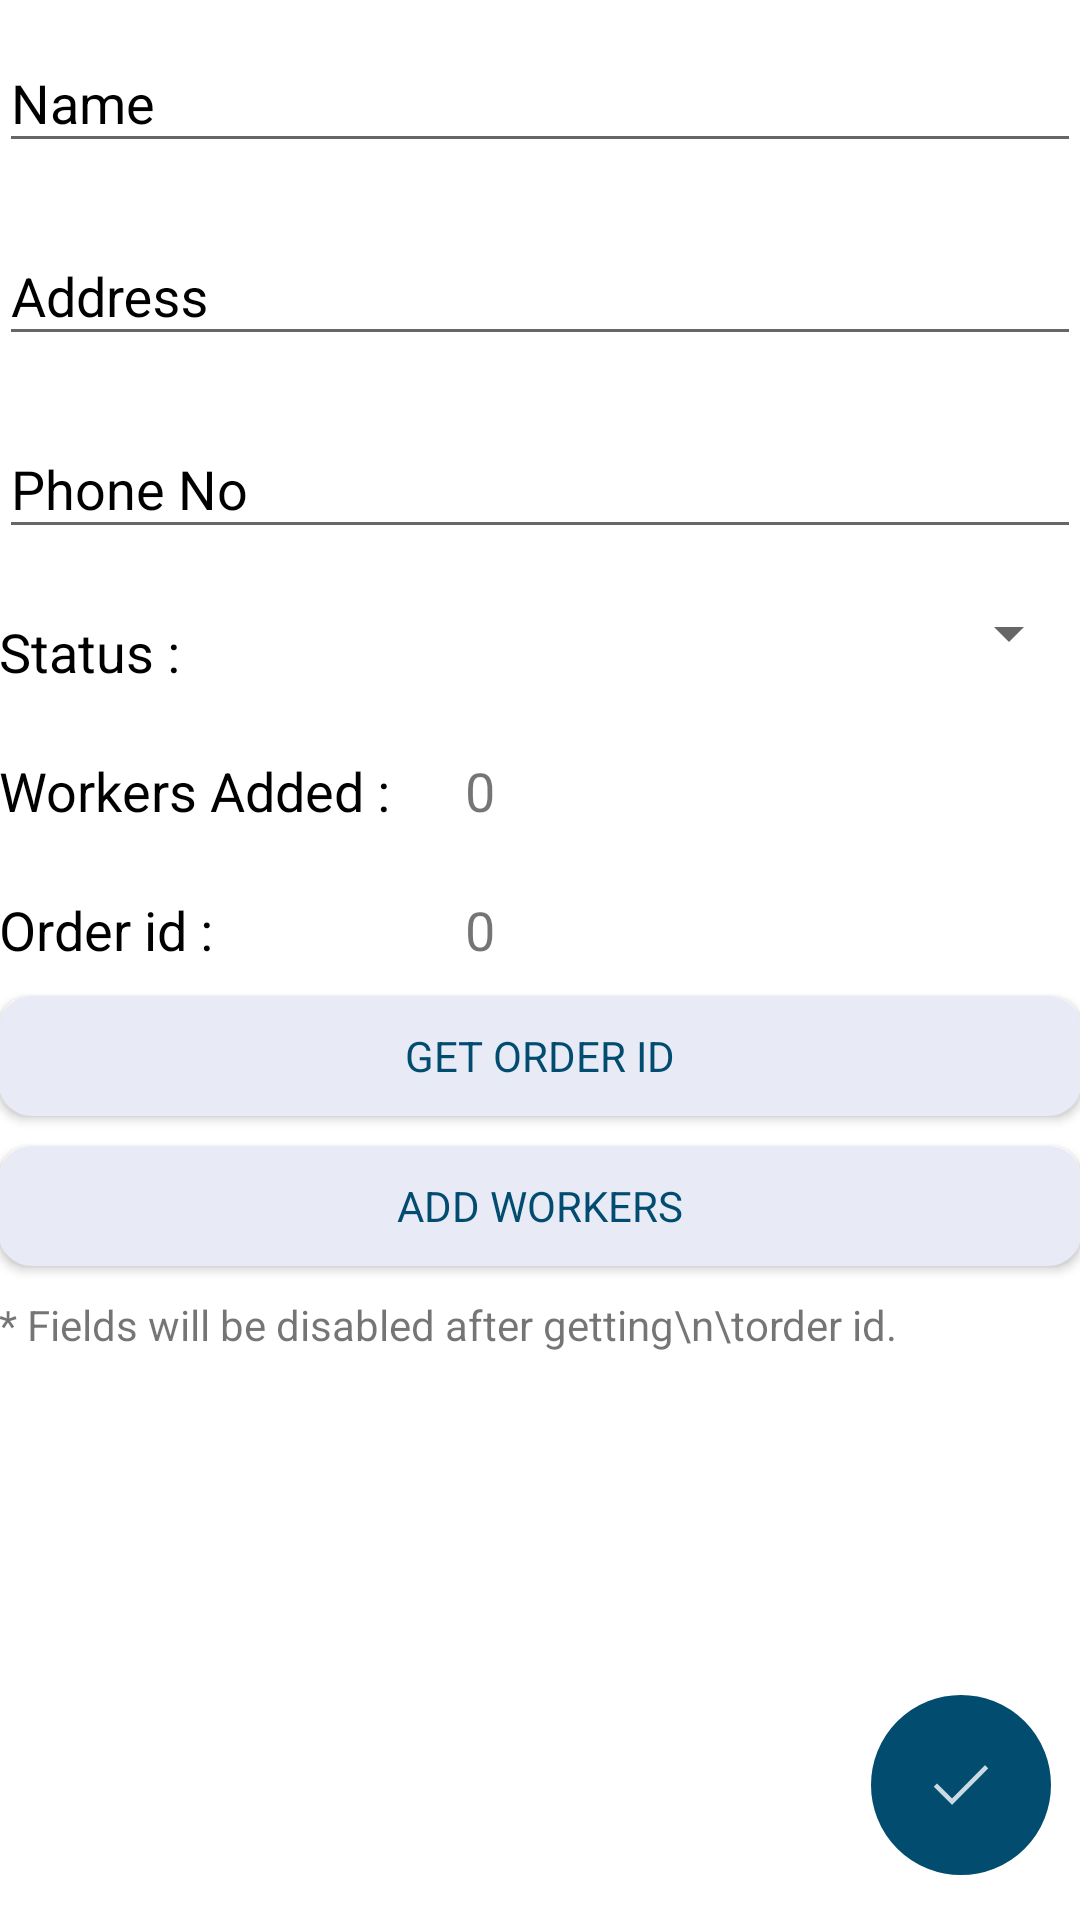

Where icons sit on this 1080*1920 app screen, as [x1, y1, x2, y2]:
save: [871, 1695, 1051, 1875]
